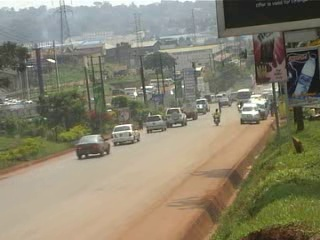Car: (74, 132, 112, 160), (110, 122, 142, 145), (143, 113, 168, 135), (165, 105, 189, 127), (239, 101, 261, 125), (216, 96, 231, 108)
Motorcycle: (213, 113, 220, 126), (236, 104, 241, 112)
